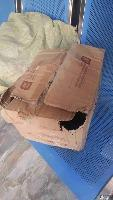damaged package: (55, 102, 89, 133)
undamaged: (0, 46, 103, 154)
